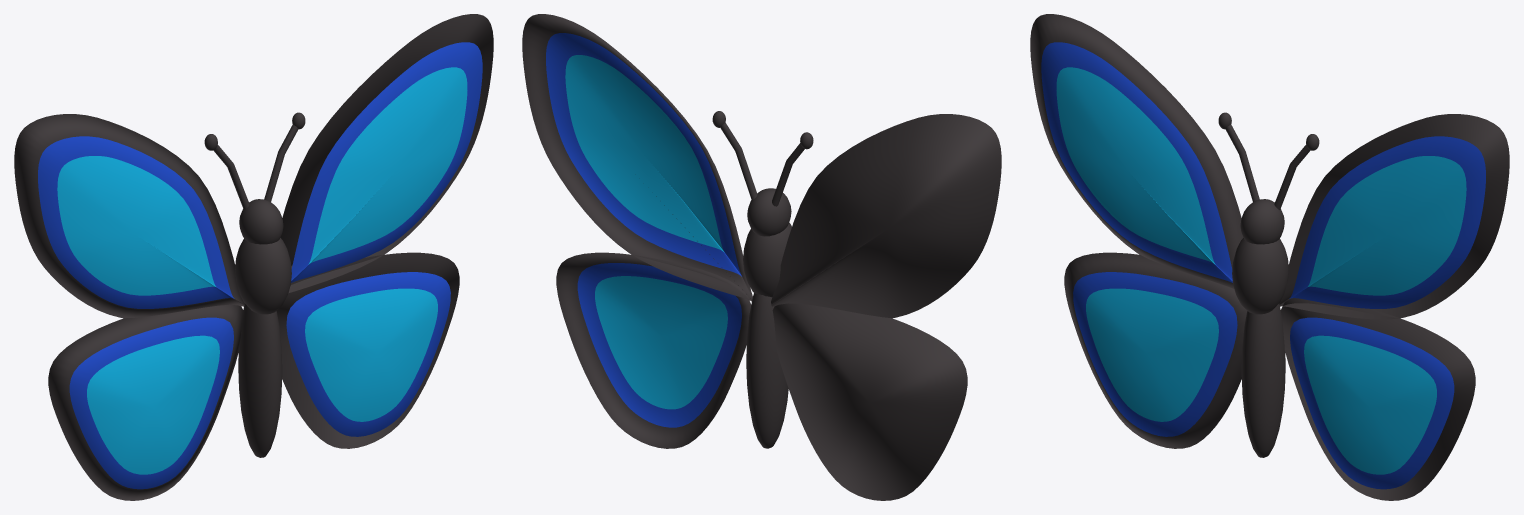
The model's file is blue-butterfly.glb.
3 renders of one model, left to right at view 1: azimuth 30°, elevation 25°; view 2: azimuth 150°, elevation 25°; view 3: azimuth 330°, elevation 25°, orthographic.
Visible parts, largest first — view 1: Butterfly cyan, Charcoal; view 2: Butterfly cyan, Charcoal; view 3: Butterfly cyan, Charcoal.
Boxes of the visible parts, <box> form: Butterfly cyan: <box>14,14,493,500</box>; Charcoal: <box>204,112,305,457</box>; Butterfly cyan: <box>522,14,1001,500</box>; Charcoal: <box>712,111,813,448</box>; Butterfly cyan: <box>1030,14,1509,500</box>; Charcoal: <box>1218,112,1319,457</box>.
Size of the model in its own units: 3.7 by 3 by 0.436.
